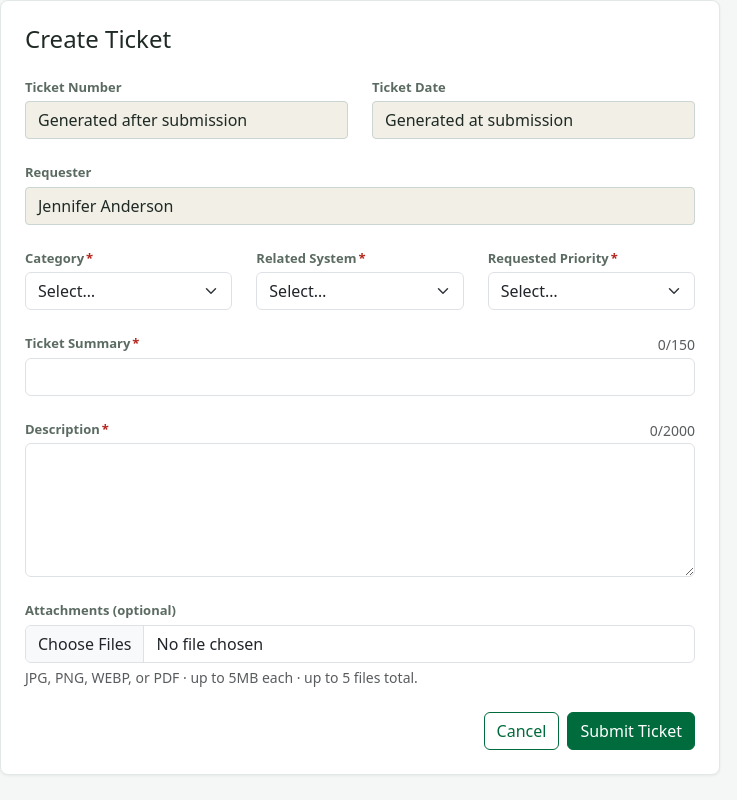
Test: CreateTicket › UI-07: API failure shows an error banner and preserves entered values
Select "Hardware" in the dropdown labelled "Category*" at [129, 291], box [25,272,232,310]
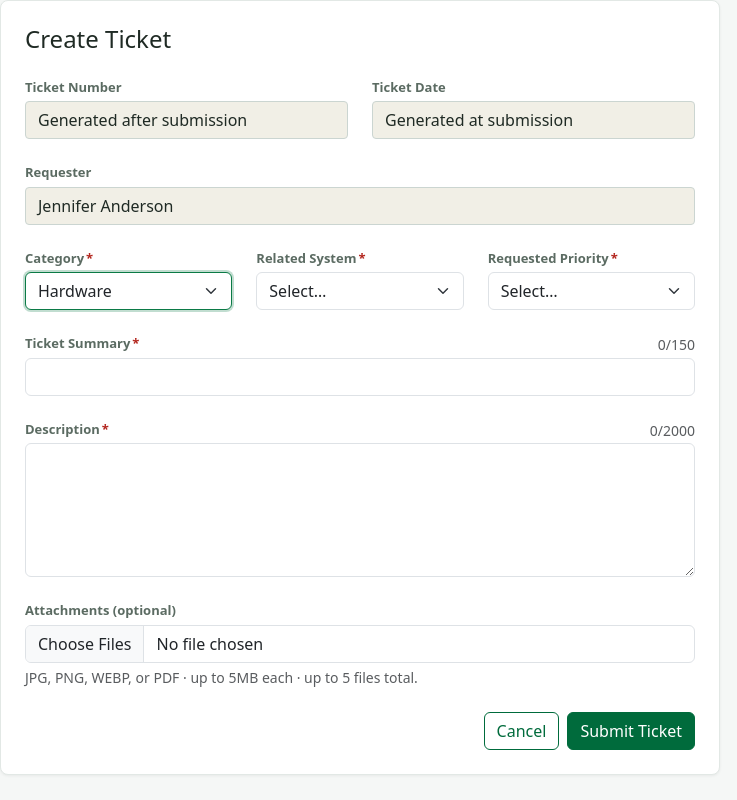
Select "Corporate Laptop" in the dropdown labelled "Related System*" at [360, 291], box [256,272,464,310]
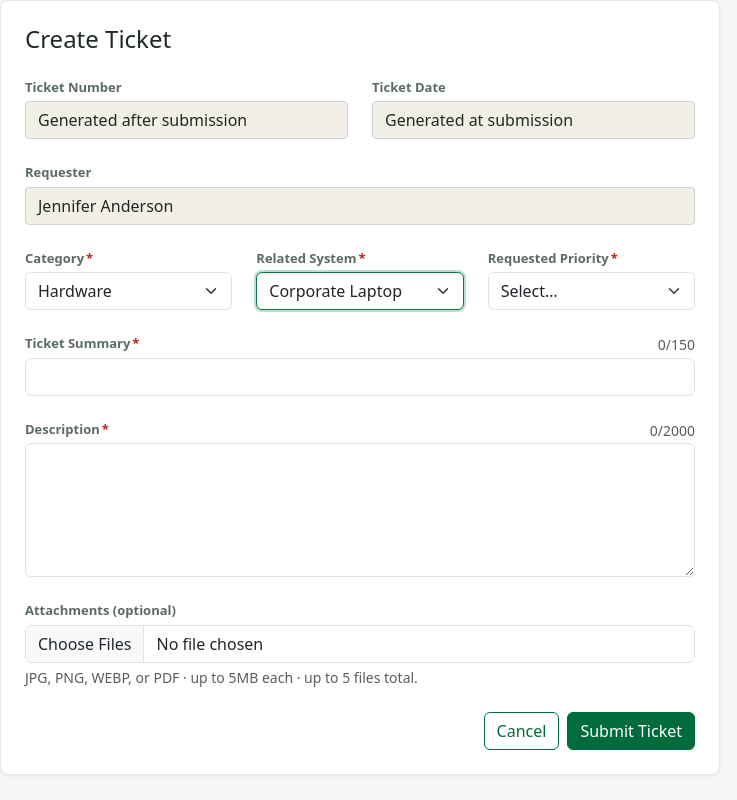
Select "Medium" in the dropdown labelled "Requested Priority*" at [591, 291], box [488,272,695,310]
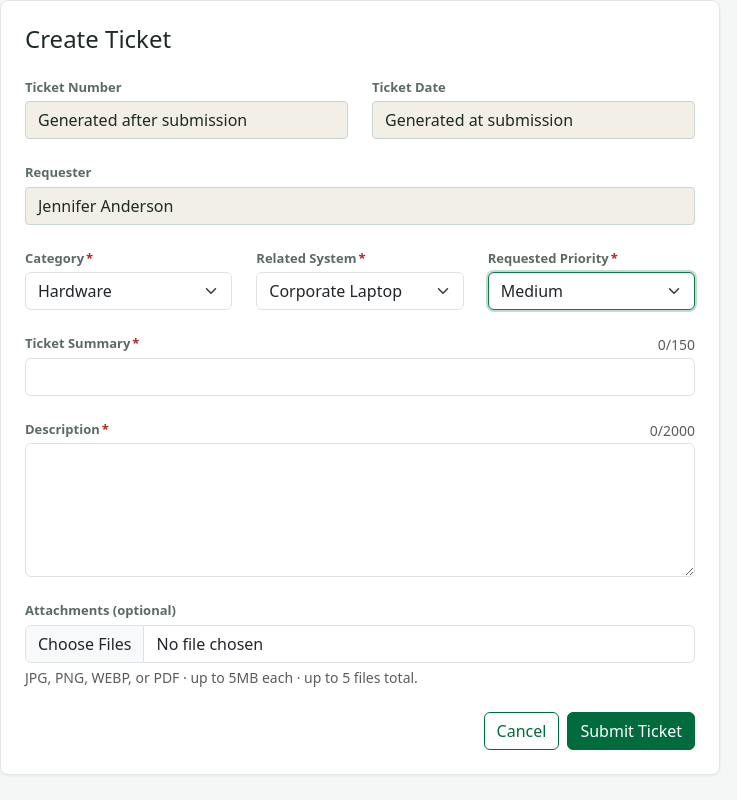
Type "Laptop battery drains quickly" into the field labelled "Ticket Summary*".
click(360, 377); type("Laptop battery drains quickly")  # box [25,358,695,396]
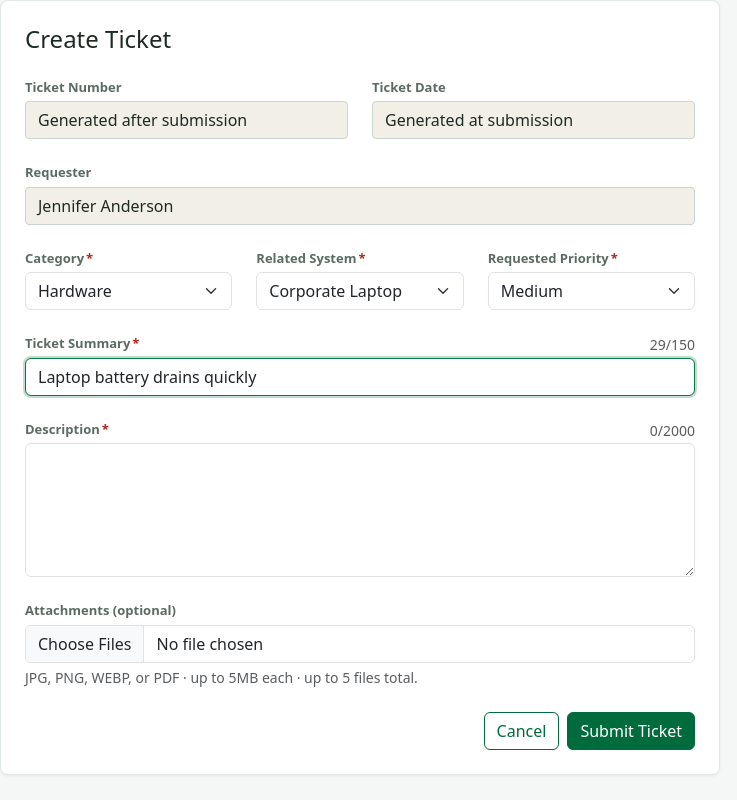
Type "The battery drains much faster than usual even when idle." into the text box labelled "Description*".
click(360, 510); type("The battery drains much faster than usual even when idle.")  # box [25,443,695,577]
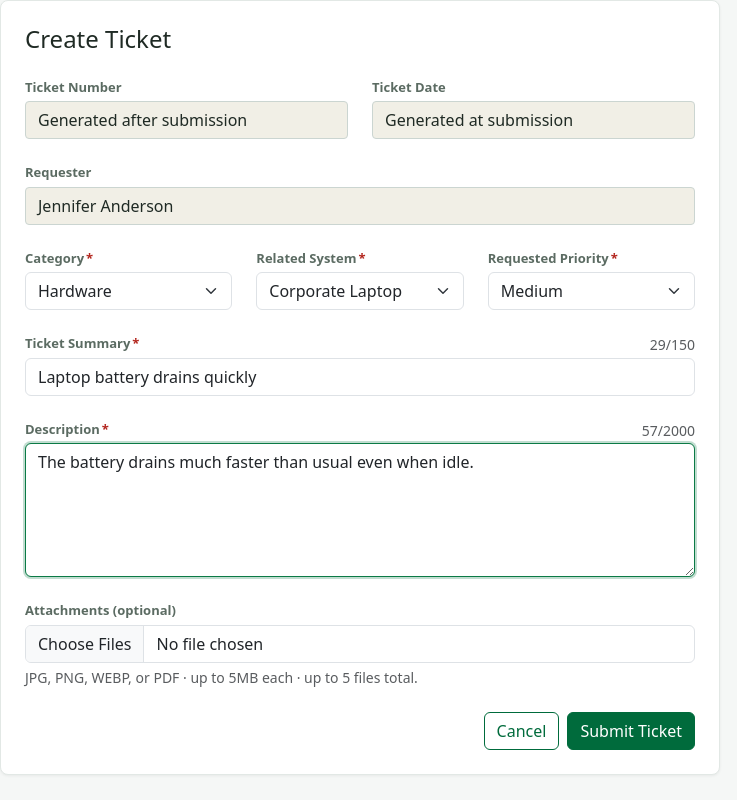
Click the button "Submit Ticket".
click(631, 731)  # box [567,712,695,750]
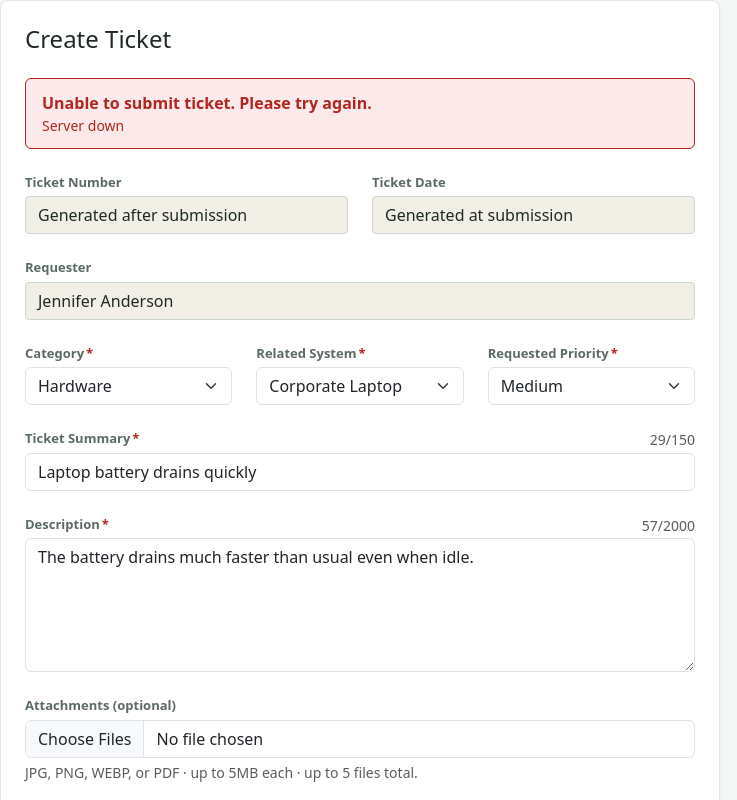
Expected: the text "Unable to submit ticket. Please try again." is shown, [42,92,372,114]
